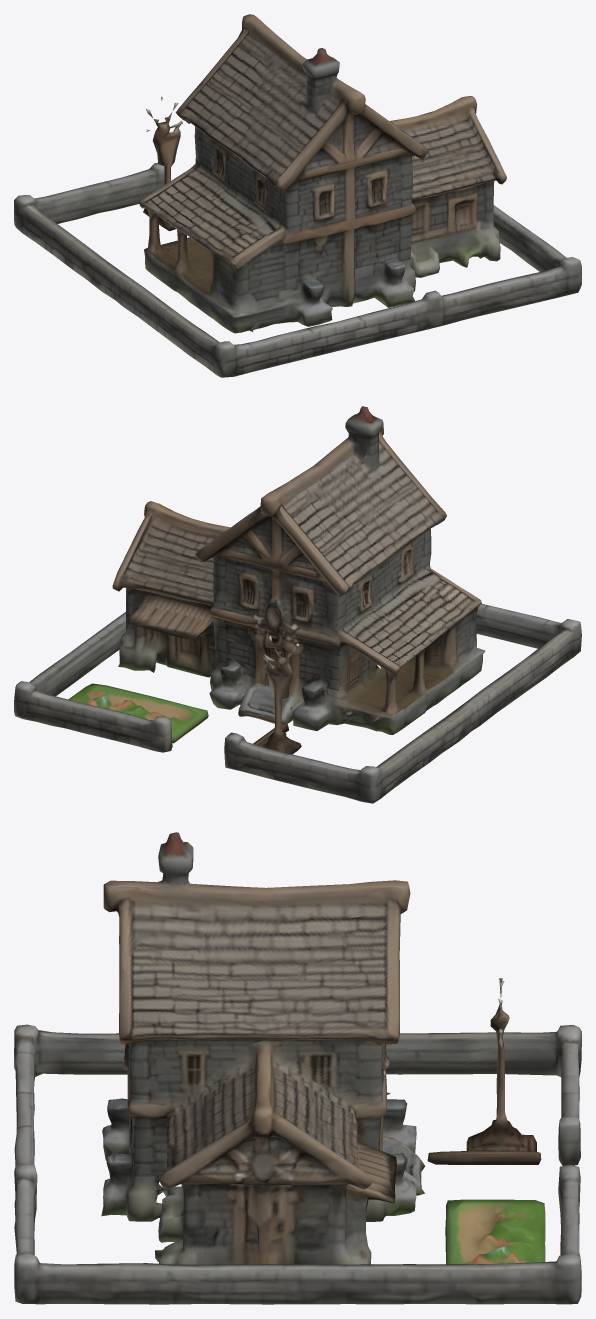
Rendered from medieval_tavern.glb.
3 views of the same model, one above another, from view 1: azimuth 30°, elevation 25°; view 2: azimuth 150°, elevation 25°; view 3: azimuth 270°, elevation 25° (orthographic). The views are drawn at different scales.
Visible parts, largest first — view 1: Medieval_Tavern; view 2: Medieval_Tavern; view 3: Medieval_Tavern.
Part boxes in pixels (<box>): Medieval_Tavern: <box>14,14,581,377</box>; Medieval_Tavern: <box>14,406,581,803</box>; Medieval_Tavern: <box>14,832,581,1304</box>.
Bounding box in the file's own units: 12 × 7.91 × 11.99.
Materials: 1 (1 with a texture image).
